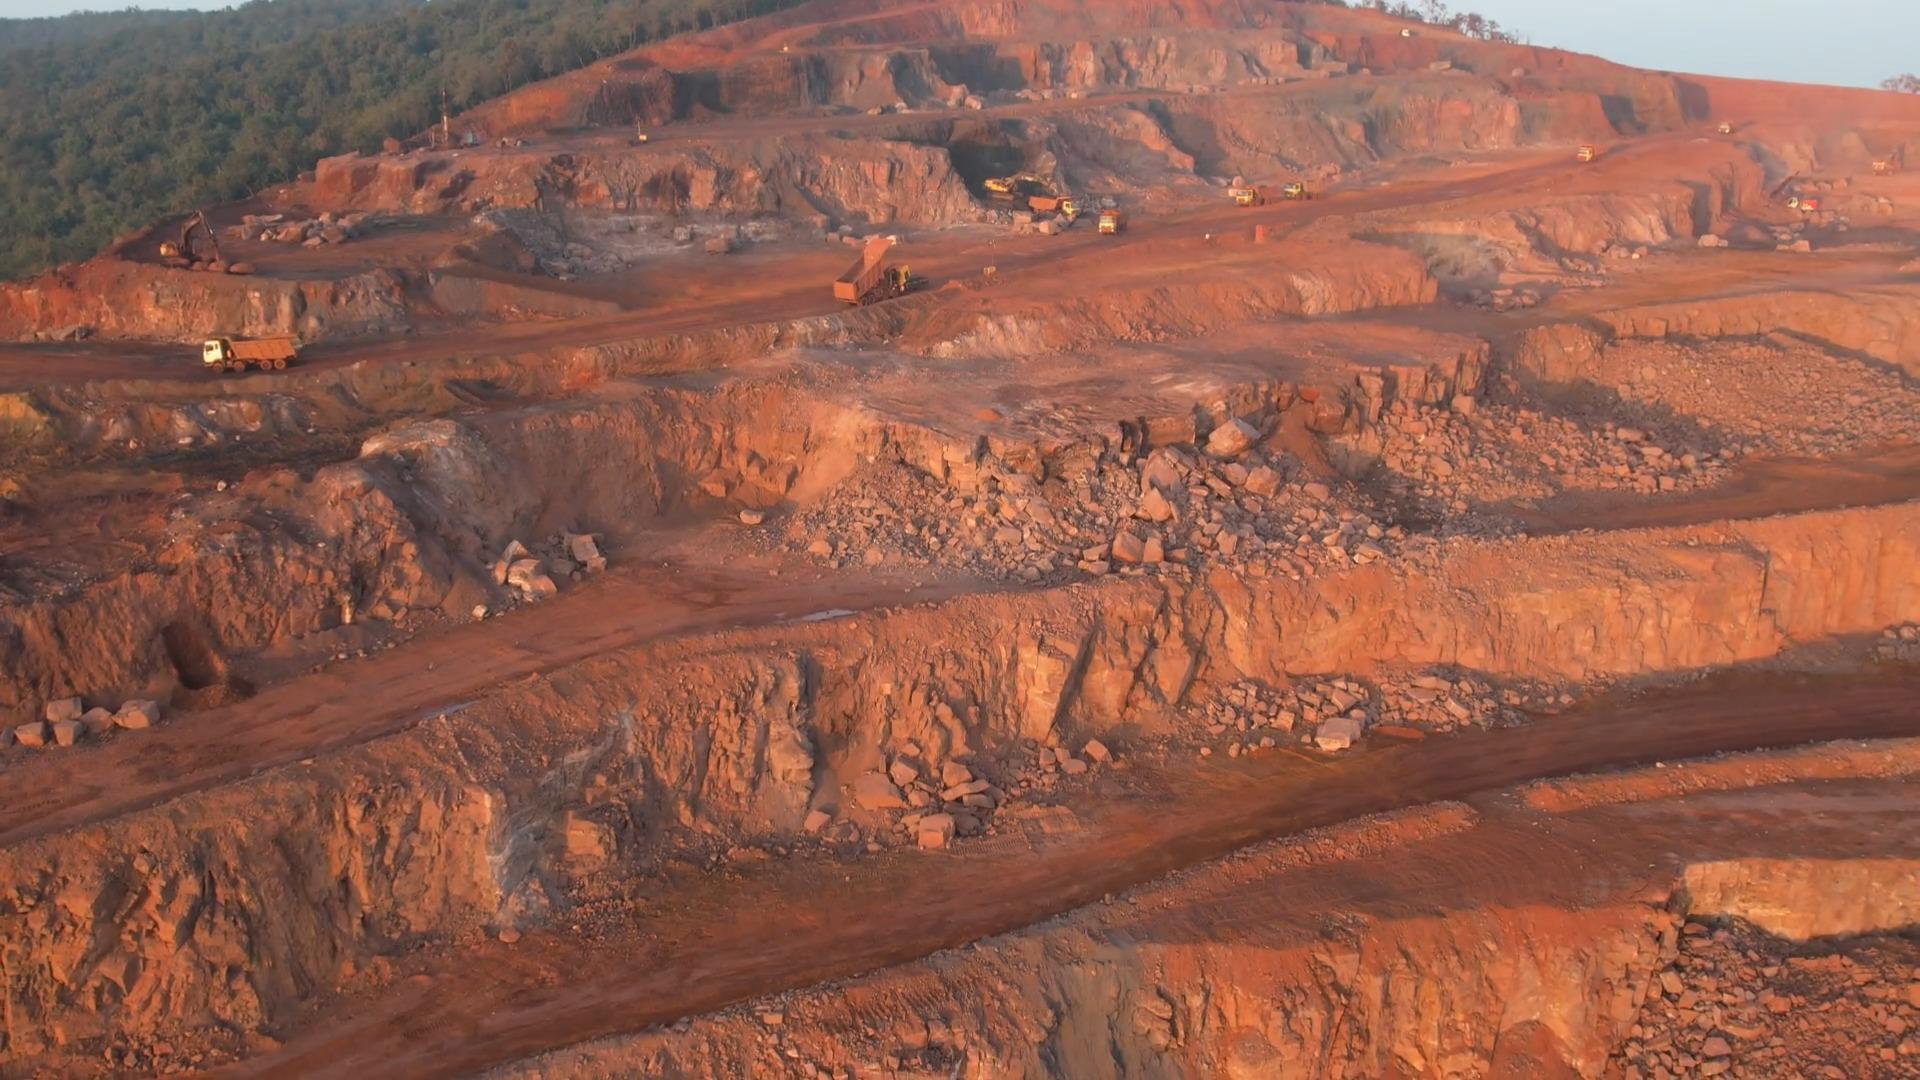excavator: (160, 210, 222, 270), (985, 173, 1030, 199)
